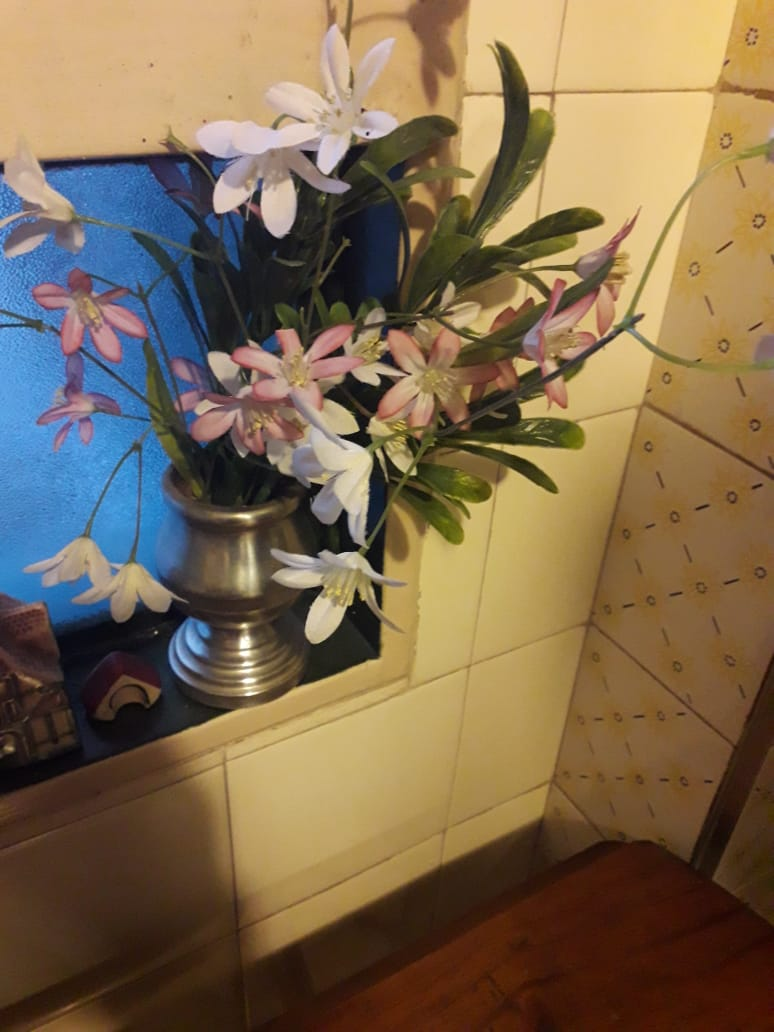mate: (157, 451, 316, 706)
metal: (155, 449, 314, 704)
